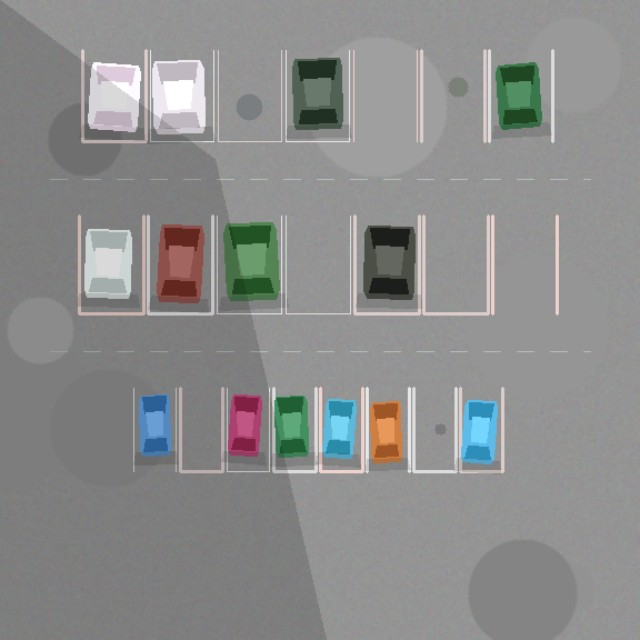space-empty: (423, 216, 488, 313), (492, 216, 557, 313), (286, 216, 350, 313), (353, 50, 417, 141), (218, 50, 281, 141), (421, 50, 484, 141), (413, 388, 456, 471), (180, 388, 222, 471)
space-occupied: (354, 216, 419, 313), (79, 216, 143, 313), (148, 216, 212, 313), (217, 216, 281, 313), (82, 50, 146, 141), (150, 50, 213, 141), (286, 50, 349, 141), (489, 50, 552, 141), (133, 388, 176, 471), (273, 388, 316, 471), (227, 388, 269, 471), (320, 388, 362, 471), (367, 388, 409, 471), (460, 388, 502, 471)
